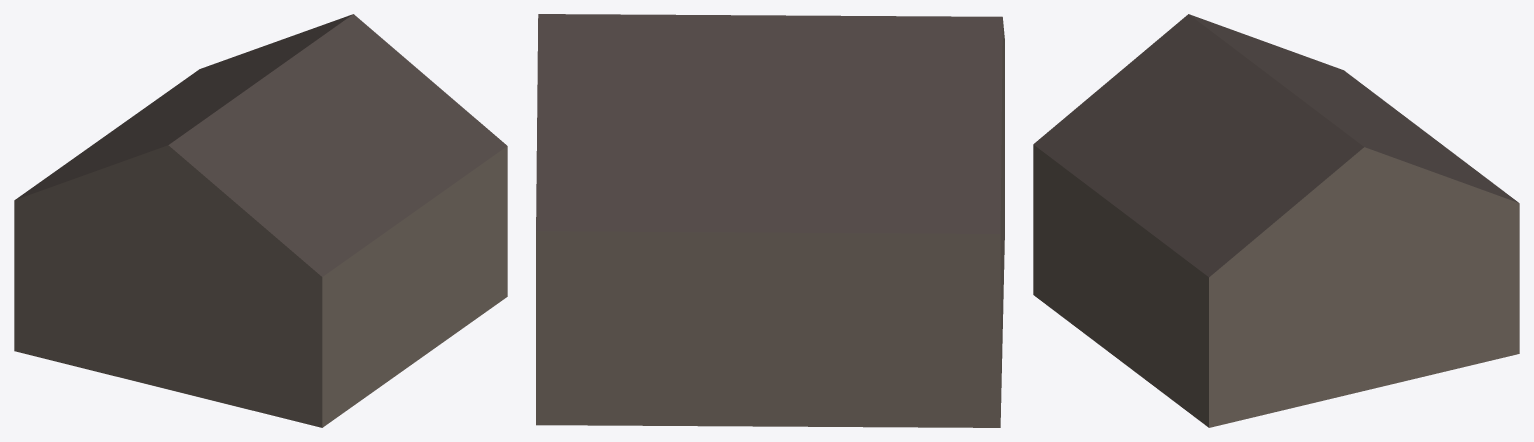
3 renders of one model, left to right at view 1: azimuth 30°, elevation 25°; view 2: azimuth 150°, elevation 25°; view 3: azimuth 270°, elevation 25°, orthographic. The views are drawn at different scales.
Visible parts, largest first — view 1: HP-w859088505; view 2: HP-w859088505; view 3: HP-w859088505.
Part boxes in pixels (x1=…): HP-w859088505: x1=14, y1=14, x2=507, y2=427; HP-w859088505: x1=536, y1=14, x2=1004, y2=427; HP-w859088505: x1=1033, y1=14, x2=1519, y2=427.
Bounding box in the file's own units: 17.71 × 9.72 × 17.57.
